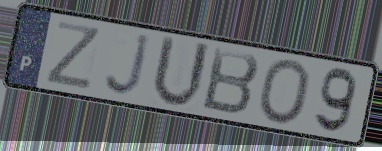9: (312, 67, 360, 135)
B: (199, 45, 263, 118)
J: (103, 32, 153, 99)
O: (256, 58, 313, 127)
U: (149, 32, 213, 110)
Z: (42, 19, 103, 92)
